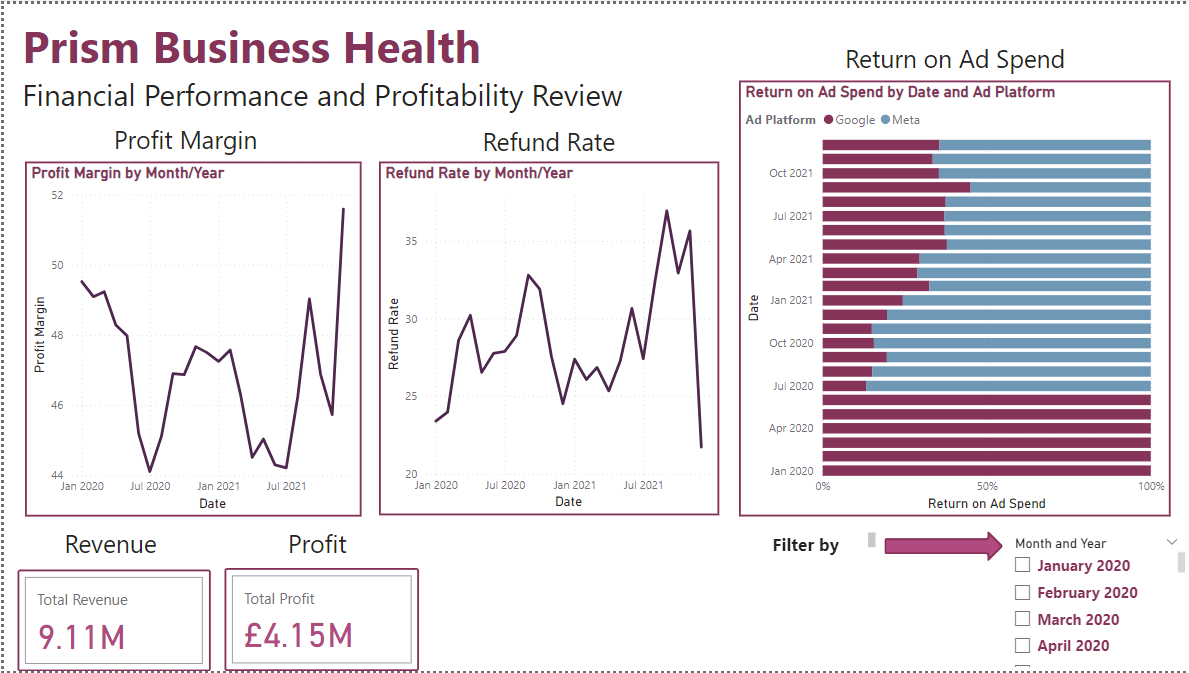

The dashboard page shown, as its layout file describes it:
{"tool":"powerbi","page":{"name":"Financial Health & Profitability","canvas":[1280,720],"ordinal":0},"visuals":[{"type":"textbox","box":[14.3,7.1,666.1,117.9],"z":0},{"type":"textbox","box":[114.1,122.5,178.9,47.9],"z":1000},{"type":"textbox","box":[59.2,559.2,119.7,50.7],"z":2000},{"type":"textbox","box":[301.4,559.2,83.1,49.3],"z":3000},{"type":"textbox","box":[793,564.8,152.1,38],"z":4000},{"type":"textbox","box":[897.2,35.2,259.2,47.9],"z":5000},{"type":"textbox","box":[504.2,125.4,169,50.7],"z":6000},{"type":"lineChart","title":"Profit Margin by Month/Year","fields":{"Category":["profit margin.date.Variation.Date Hierarchy.Year"],"Y":["Sum(profit margin.profit_margin)"]},"box":[22.5,170.4,363.4,383.1],"z":7000},{"type":"cardVisual","fields":{"Data":["Sum(revenue.total_revenue)"]},"box":[15,610,208.3,110],"z":8000},{"type":"cardVisual","fields":{"Data":["Sum(profit.profit)"]},"box":[238,608.9,210.1,111.4],"z":9000},{"type":"lineChart","title":"Refund Rate by Month/Year","fields":{"Y":["Sum(refund.refund_rate)"],"Category":["refund.date.Variation.Date Hierarchy.Year"]},"box":[404.2,170.4,367.6,381.7],"z":10000},{"type":"hundredPercentStackedBarChart","fields":{"Category":["roas.date"],"Series":["roas.platform"],"Y":["Sum(roas.Return_on_Ad_Spend)"]},"box":[793,83.1,466.2,470.4],"z":11000},{"type":"slicer","fields":{"Values":["DateTable.MonthYear"]},"box":[1078.9,567.6,201.4,152.1],"z":12000},{"type":"shape","box":[950.7,567.6,128.2,33.8],"z":13000}]}

Visuals, with their boxes in screenshot pixels (x1, y1, x2, y2), scaled from the page's 1280x720 canvas onto the 1189x673 screenshot:
textbox: crop(13, 7, 632, 117)
textbox: crop(106, 115, 272, 159)
textbox: crop(55, 523, 166, 570)
textbox: crop(280, 523, 357, 569)
textbox: crop(737, 528, 878, 563)
textbox: crop(833, 33, 1074, 78)
textbox: crop(468, 117, 625, 165)
"Profit Margin by Month/Year" lineChart: crop(21, 159, 358, 517)
cardVisual - Sum(revenue.total_revenue): crop(14, 570, 207, 672)
cardVisual - Sum(profit.profit): crop(221, 569, 416, 672)
"Refund Rate by Month/Year" lineChart: crop(375, 159, 717, 516)
hundredPercentStackedBarChart - roas.date x roas.platform: crop(737, 78, 1170, 517)
slicer - DateTable.MonthYear: crop(1002, 531, 1188, 672)
shape: crop(883, 531, 1002, 562)
